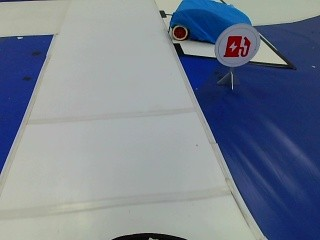battery: (220, 29, 255, 62)
car: (166, 0, 253, 42)
